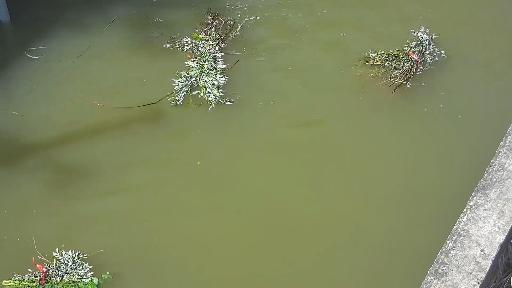twig: (148, 5, 246, 115), (357, 26, 447, 95), (7, 231, 113, 288)
